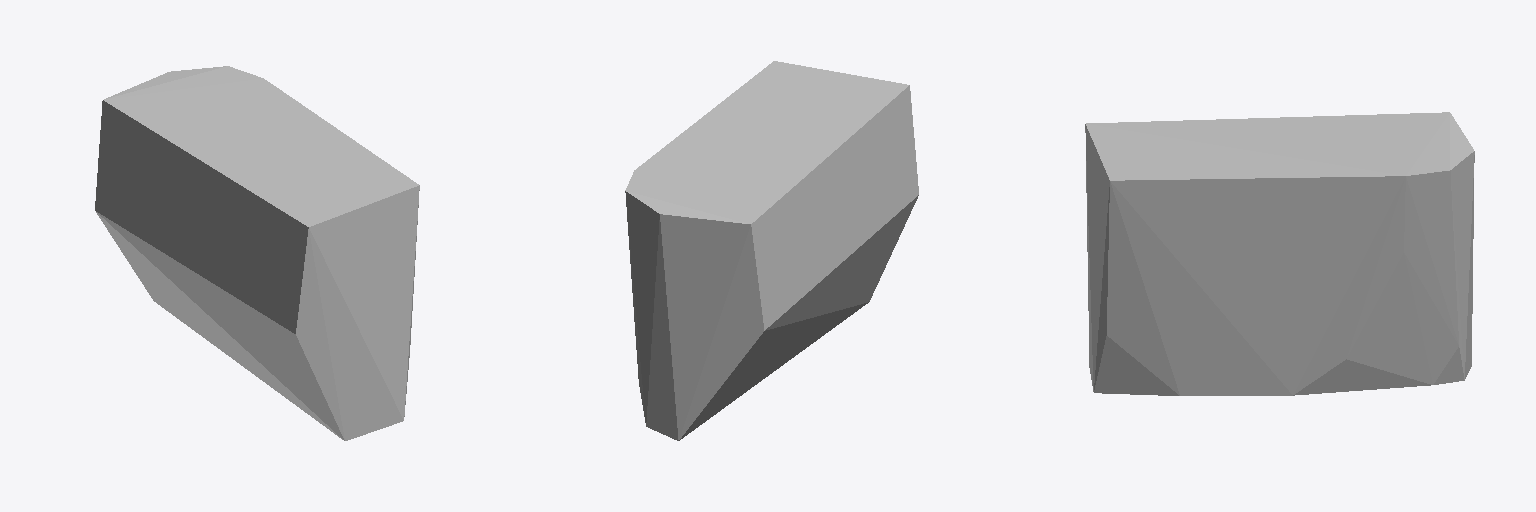
File: trash_bin_collision_20.obj
3 renders of one model, left to right at view 1: azimuth 30°, elevation 25°; view 2: azimuth 150°, elevation 25°; view 3: azimuth 270°, elevation 25°, orthographic.
Size of the model in its own units: 0.0219 by 0.0303 by 0.0468.